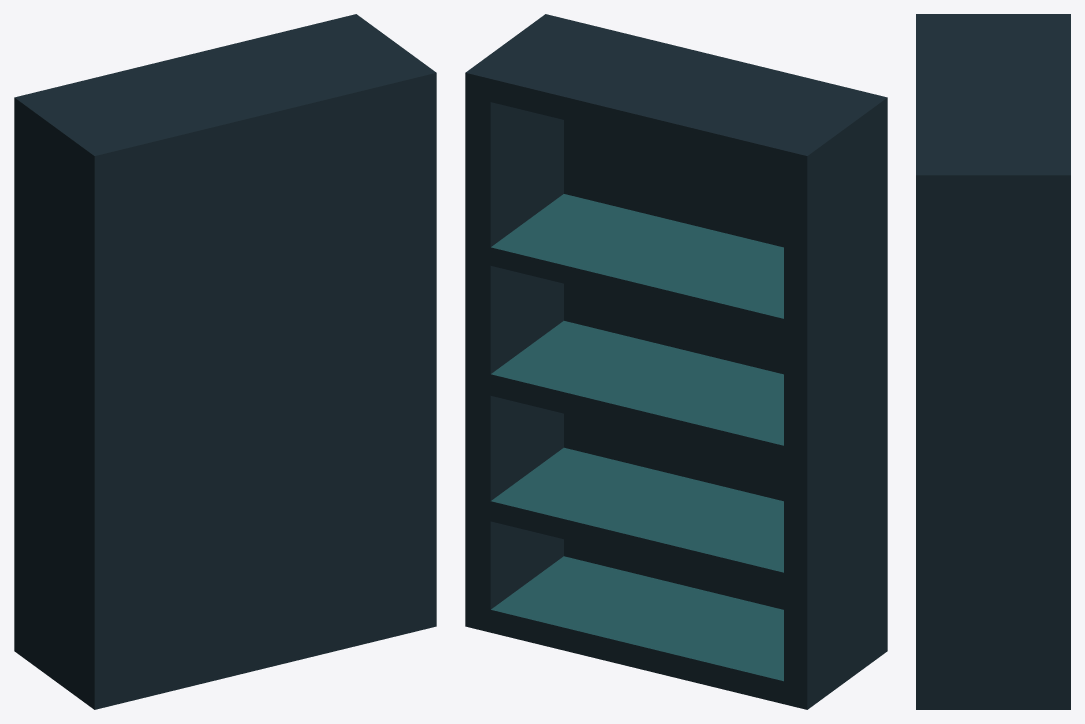
File: Interior_Shelf_Bookshelf_Dark.fbx
3 renders of one model, left to right at view 1: azimuth 30°, elevation 25°; view 2: azimuth 150°, elevation 25°; view 3: azimuth 270°, elevation 25°, orthographic. The views are drawn at different scales.
Visible parts, largest first — view 1: Cube.382; view 2: Cube.382; view 3: Cube.382.
Boxes of the visible parts, x1,y1,x2,y2 form: Cube.382: [14, 14, 436, 709]; Cube.382: [465, 14, 887, 709]; Cube.382: [916, 14, 1070, 709].
Bounding box in the file's own units: 98.73 × 153 × 40.12.
